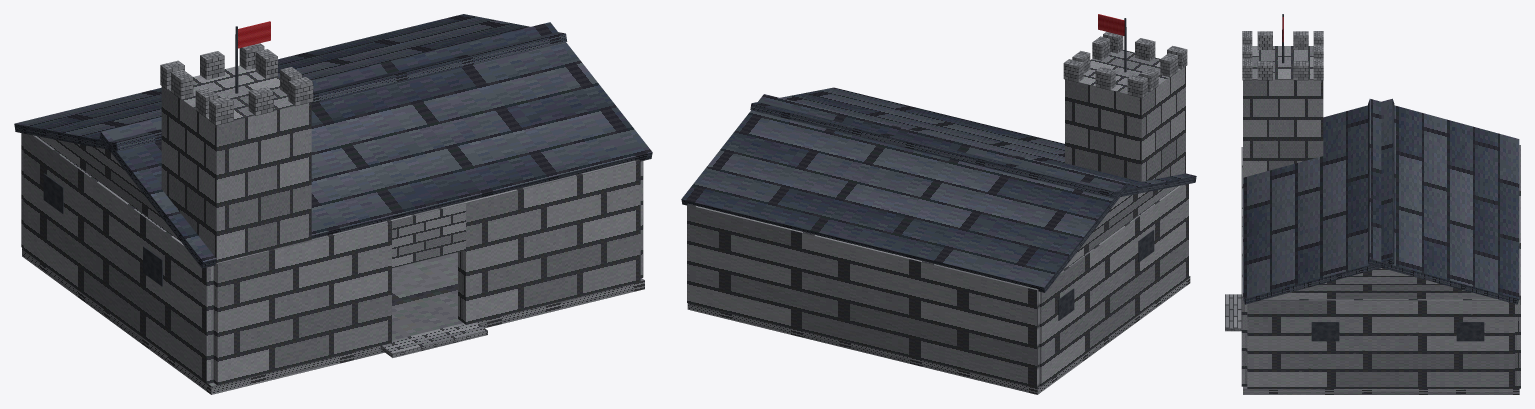
The model's file is delegacia_da_vila.glb.
3 views of the same model, side by side, from view 1: azimuth 30°, elevation 25°; view 2: azimuth 150°, elevation 25°; view 3: azimuth 270°, elevation 25° (orthographic). The views are drawn at different scales.
Visible parts, largest first — view 1: Roof_Watchtower, Walls_Fortress, Floor_Guardhouse, Cell_Iron_Bars; view 2: Roof_Watchtower, Walls_Fortress, Floor_Guardhouse, Cell_Iron_Bars; view 3: Roof_Watchtower, Walls_Fortress, Floor_Guardhouse, Cell_Iron_Bars.
Boxes of the visible parts, x1,y1,x2,y2 form: Roof_Watchtower: (14,14,652,268); Walls_Fortress: (21,133,643,385); Floor_Guardhouse: (22,248,644,394); Cell_Iron_Bars: (43,173,162,286); Roof_Watchtower: (681,14,1196,292); Walls_Fortress: (687,184,1188,388); Floor_Guardhouse: (687,276,1190,394); Cell_Iron_Bars: (1058,230,1154,320); Roof_Watchtower: (1242,14,1519,304); Walls_Fortress: (1241,145,1520,388); Floor_Guardhouse: (1225,294,1519,394); Cell_Iron_Bars: (1311,322,1484,341).
Bounding box in the file's own units: 17 × 12.12 × 13.26.
1 material, 1 textured.
